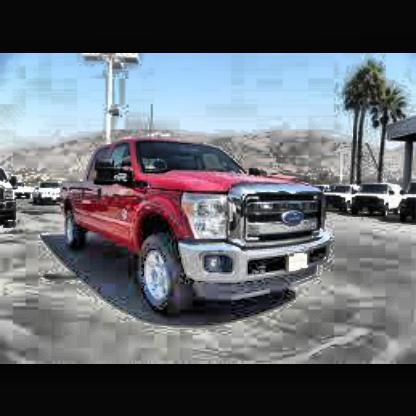Ford F-450 Super Duty Crew Cab 2012: (64, 141, 327, 316)
